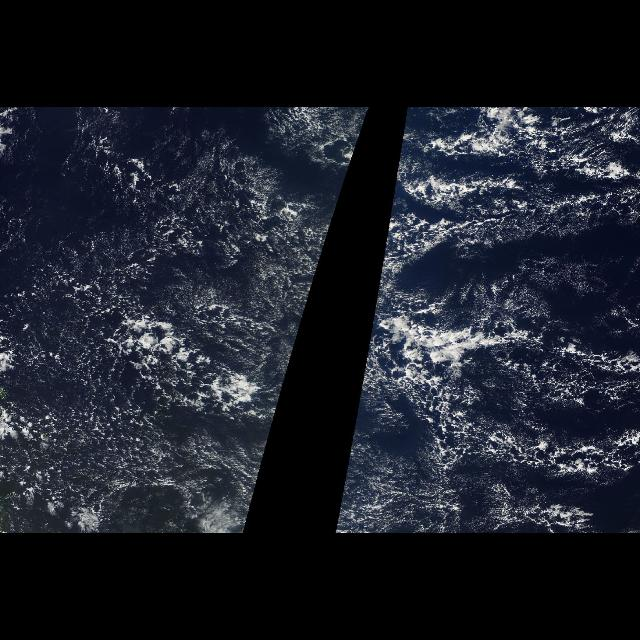Gravel: (9, 109, 371, 504), (337, 108, 639, 524)
Sugar: (47, 134, 307, 252), (10, 456, 250, 534)
